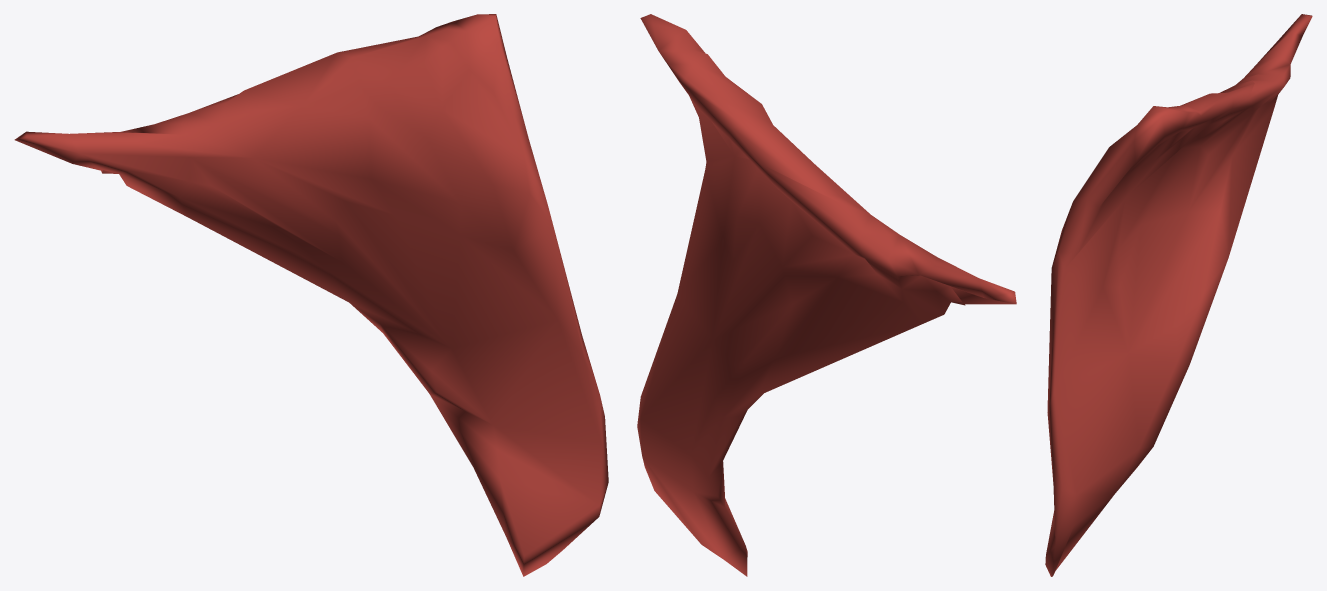
Rendered from musculos-levator-labii-superioris-r.glb.
3 views of the same model, side by side, from view 1: azimuth 30°, elevation 25°; view 2: azimuth 150°, elevation 25°; view 3: azimuth 270°, elevation 25° (orthographic). The views are drawn at different scales.
Visible parts, largest first — view 1: Levator labii superioris.r; view 2: Levator labii superioris.r; view 3: Levator labii superioris.r.
Part boxes in pixels (bbox=[...]): Levator labii superioris.r: bbox=[14, 14, 608, 576]; Levator labii superioris.r: bbox=[637, 14, 1016, 576]; Levator labii superioris.r: bbox=[1045, 14, 1312, 576].
Bounding box in the file's own units: 0.027 × 0.0289 × 0.0148.
